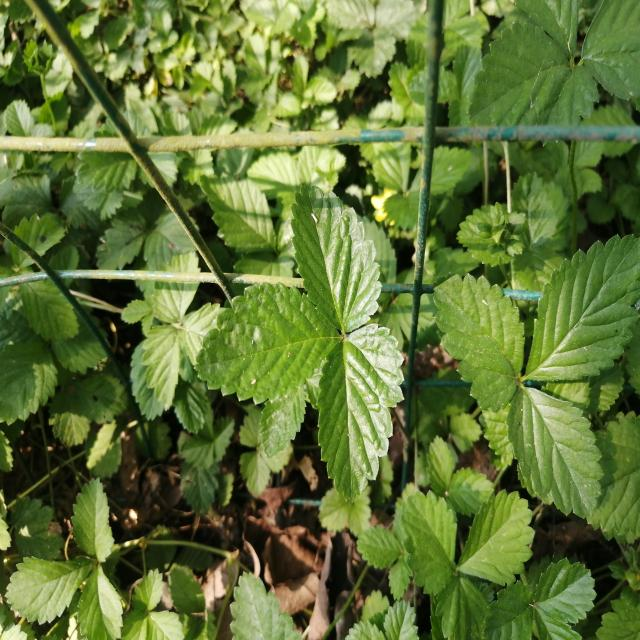Mock_strawberry: (440, 221, 625, 505)
